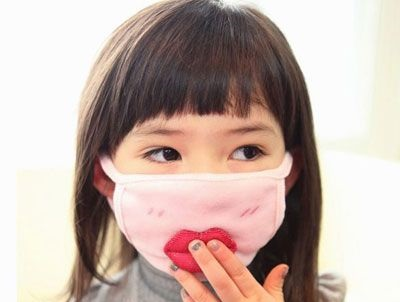face_mask: (110, 85, 289, 282)
